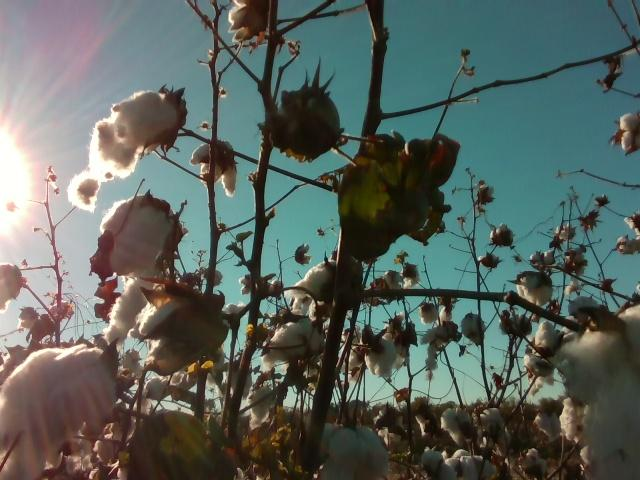cotton_ready: (0, 347, 115, 480), (68, 88, 185, 212), (560, 306, 640, 480), (105, 270, 212, 374), (100, 195, 177, 278), (315, 424, 391, 480), (259, 320, 326, 370), (284, 258, 337, 321), (193, 141, 238, 195), (229, 0, 259, 42), (518, 272, 553, 306), (616, 110, 640, 155)
